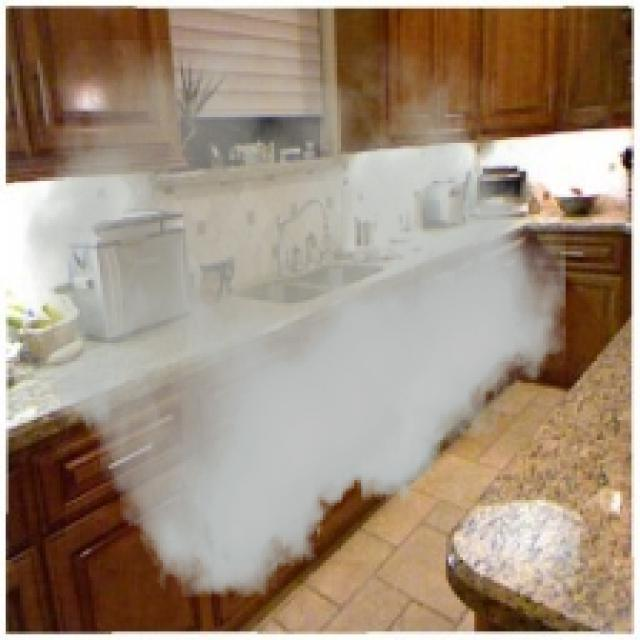Smoke: (23, 40, 566, 597)
